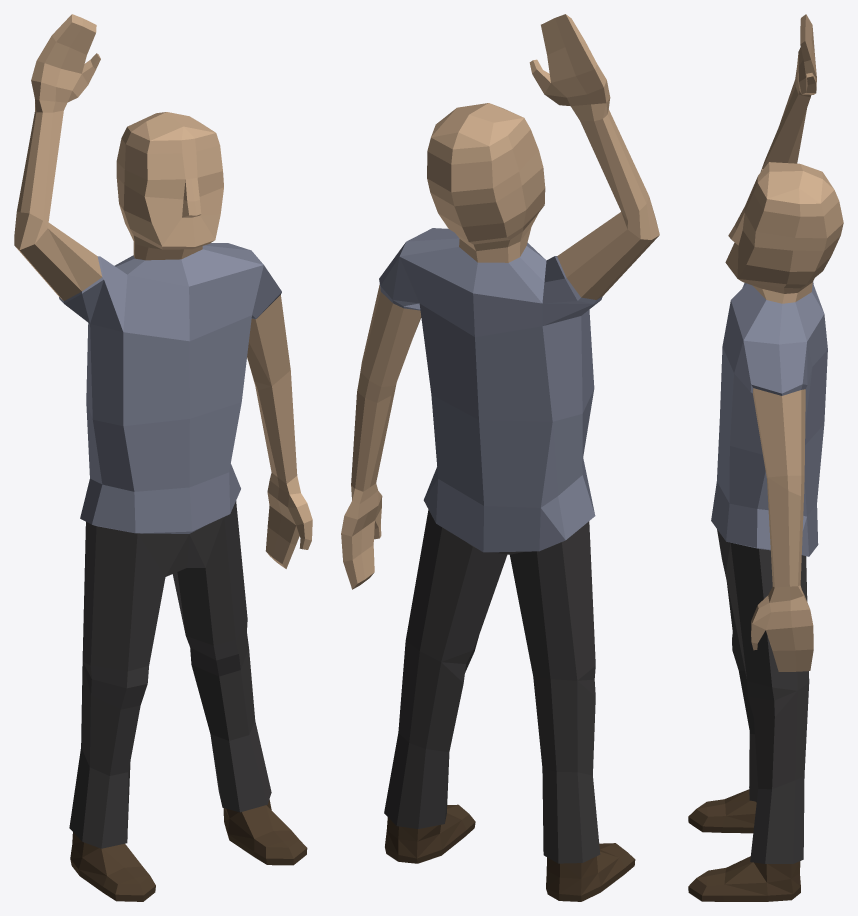
File: Male_Standing_Waving.glb
3 views of the same model, side by side, from view 1: azimuth 30°, elevation 25°; view 2: azimuth 150°, elevation 25°; view 3: azimuth 270°, elevation 25° (orthographic). The views are drawn at different scales.
Visible parts, largest first — view 1: Male_Standing_Waving; view 2: Male_Standing_Waving; view 3: Male_Standing_Waving.
Part boxes in pixels (<box>): Male_Standing_Waving: <box>14,14,312,901</box>; Male_Standing_Waving: <box>341,14,659,901</box>; Male_Standing_Waving: <box>688,14,843,901</box>.
Bounding box in the file's own units: 1.57 × 4.47 × 0.7819.
